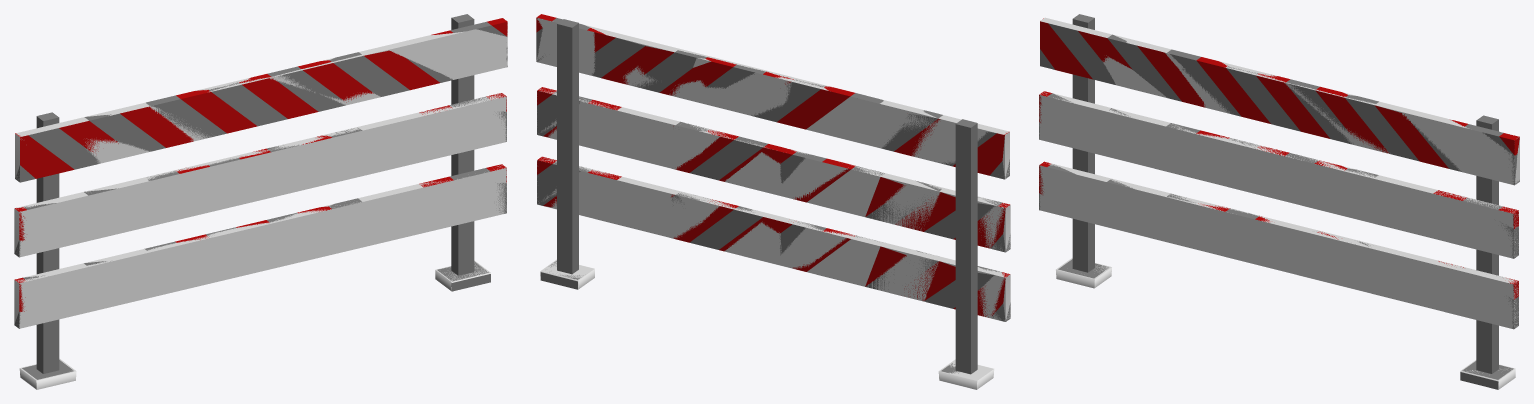
Rendered from model_road_barrier_02.fbx.
The picture shows the model from 3 angles, left to right: view 1: azimuth 30°, elevation 25°; view 2: azimuth 150°, elevation 25°; view 3: azimuth 330°, elevation 25°; orthographic projection. The views are drawn at different scales.
Parts seen in each view (by area): view 1: model_road_barrier_02_col, model_road_barrier_02; view 2: model_road_barrier_02_col, model_road_barrier_02; view 3: model_road_barrier_02_col, model_road_barrier_02.
Part boxes in pixels (box(x1,y1,x2,y2)): model_road_barrier_02_col: box(14, 29, 507, 389); model_road_barrier_02: box(14, 14, 507, 379); model_road_barrier_02_col: box(536, 17, 1010, 389); model_road_barrier_02: box(536, 14, 1010, 374); model_road_barrier_02_col: box(1039, 17, 1519, 389); model_road_barrier_02: box(1039, 14, 1519, 389).
Bounding box in the file's own units: 329 × 170 × 24.06.
Materials: 2 (1 with a texture image).
